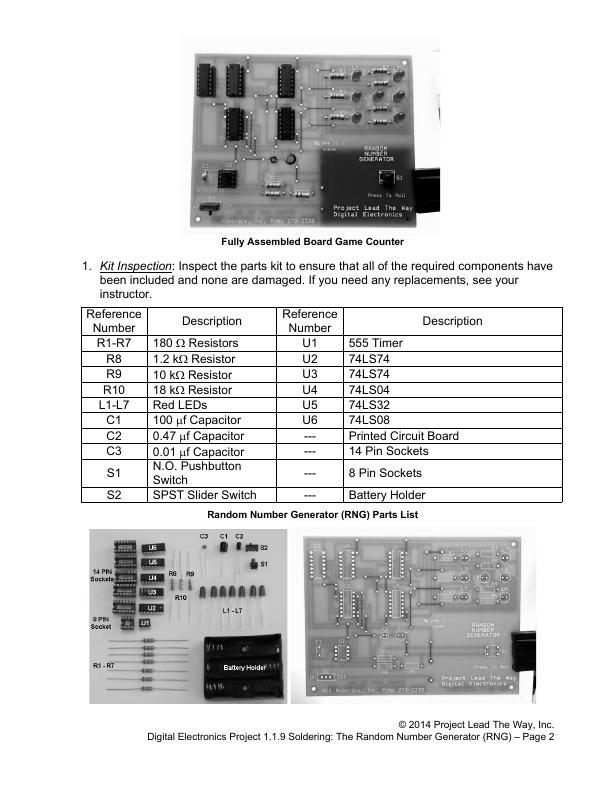table: (78, 304, 567, 508)
text: (76, 258, 558, 300), (141, 718, 561, 747), (207, 507, 422, 523), (217, 233, 407, 250)
